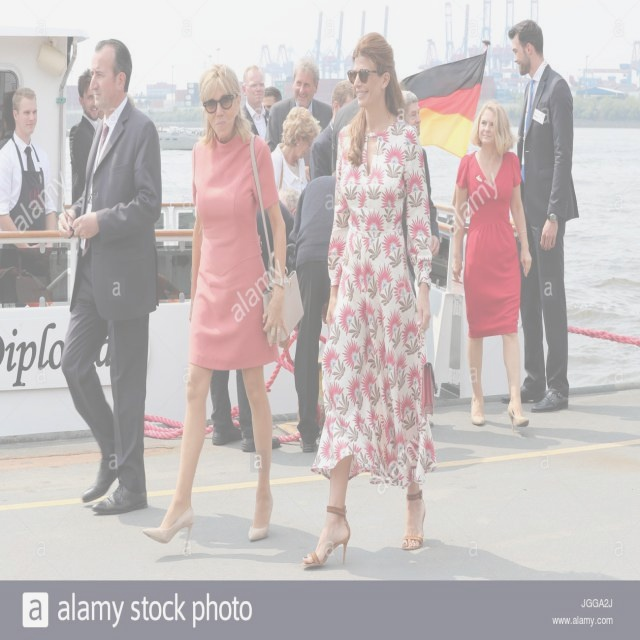pessoa: (138, 59, 306, 560), (298, 29, 440, 574), (58, 36, 165, 518), (497, 16, 582, 417), (449, 96, 536, 433), (399, 89, 444, 428), (285, 174, 337, 455), (0, 86, 60, 250), (264, 56, 334, 182), (207, 364, 284, 454), (309, 78, 358, 182), (270, 104, 322, 196), (70, 66, 104, 197), (255, 186, 302, 275), (238, 64, 272, 142), (67, 120, 82, 206), (262, 84, 284, 116), (94, 106, 106, 124)
